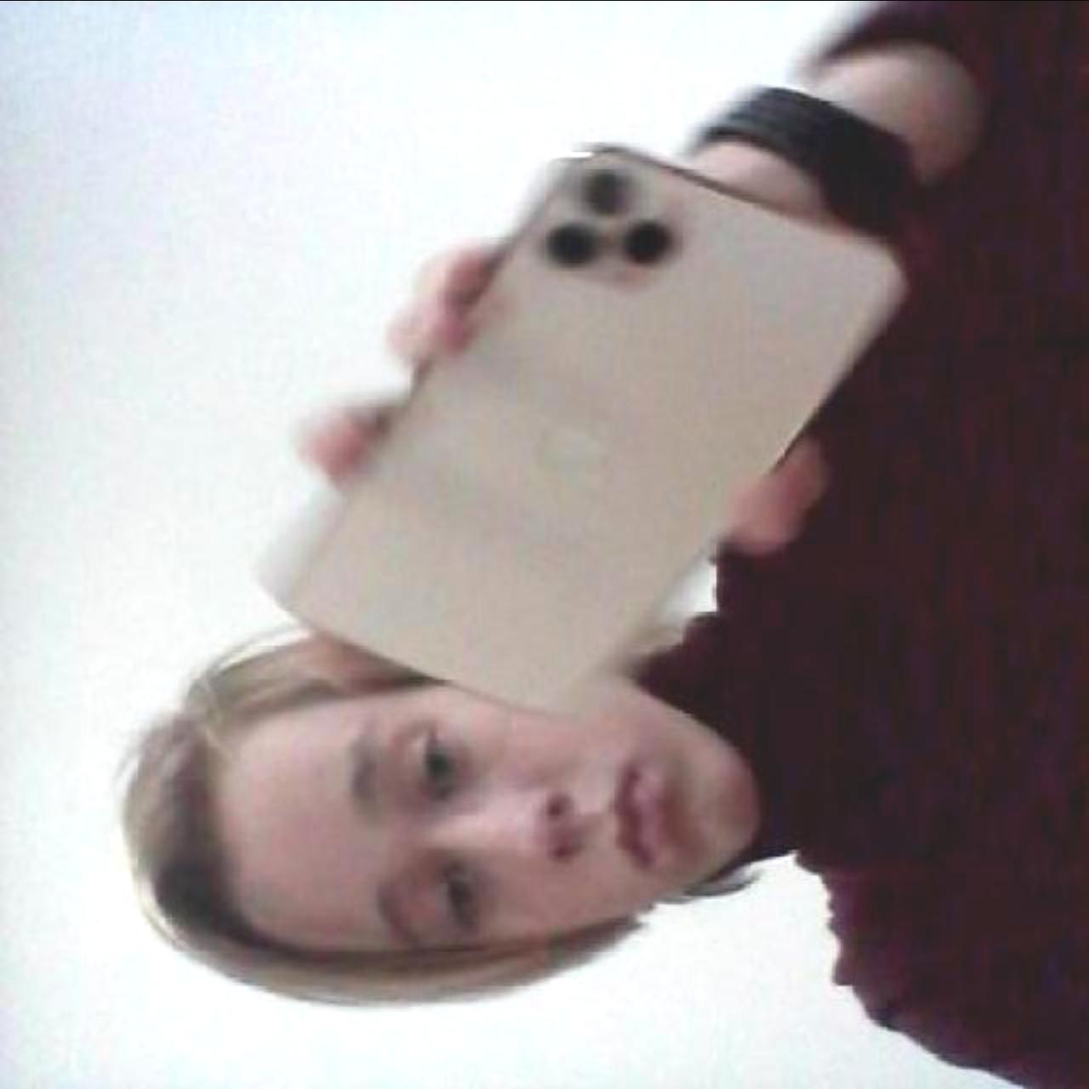phone: (233, 136, 919, 728)
